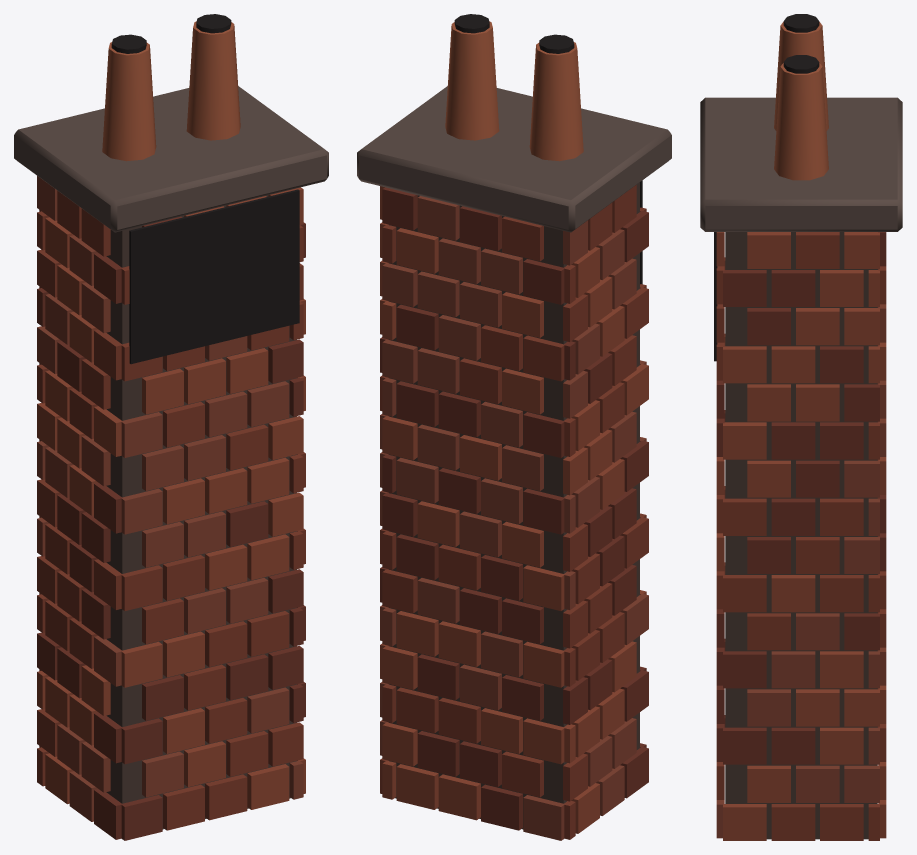
The model's file is chimney_stack.glb.
The picture shows the model from 3 angles, left to right: view 1: azimuth 30°, elevation 25°; view 2: azimuth 150°, elevation 25°; view 3: azimuth 270°, elevation 25°; orthographic projection.
Parts seen in each view (by area): view 1: chimney_stack; view 2: chimney_stack; view 3: chimney_stack.
Part boxes in pixels (box(x1,y1,x2,y2)): chimney_stack: box(14, 14, 328, 840); chimney_stack: box(357, 14, 671, 840); chimney_stack: box(700, 14, 902, 840).
Size of the model in its own units: 1.55 by 5.15 by 1.25.
